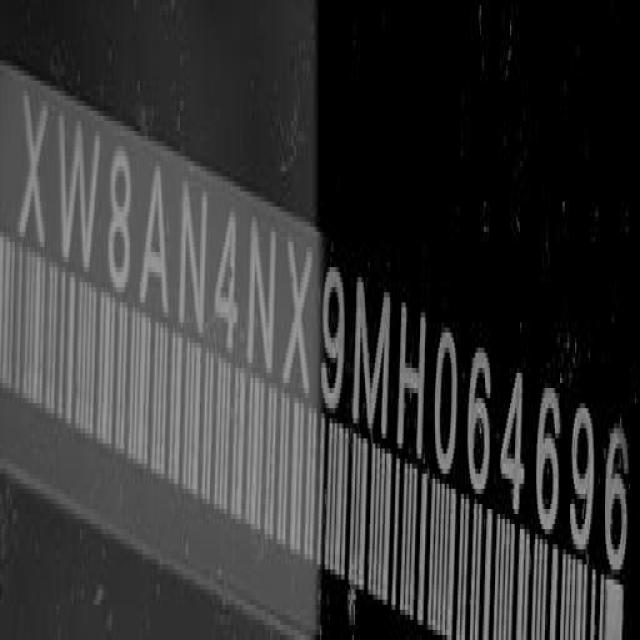0: (433, 329, 459, 486)
4: (212, 204, 242, 360), (502, 362, 528, 524)
6: (604, 418, 634, 578), (536, 380, 564, 540), (465, 343, 490, 508)
8: (109, 139, 133, 295)
9: (569, 396, 596, 561), (322, 259, 344, 424)
A: (140, 160, 171, 325)
H: (398, 297, 427, 465)
M: (355, 272, 394, 444)
N: (245, 212, 278, 386), (179, 181, 211, 344)
W: (57, 92, 101, 274)
X: (284, 226, 316, 404), (19, 84, 48, 256)
